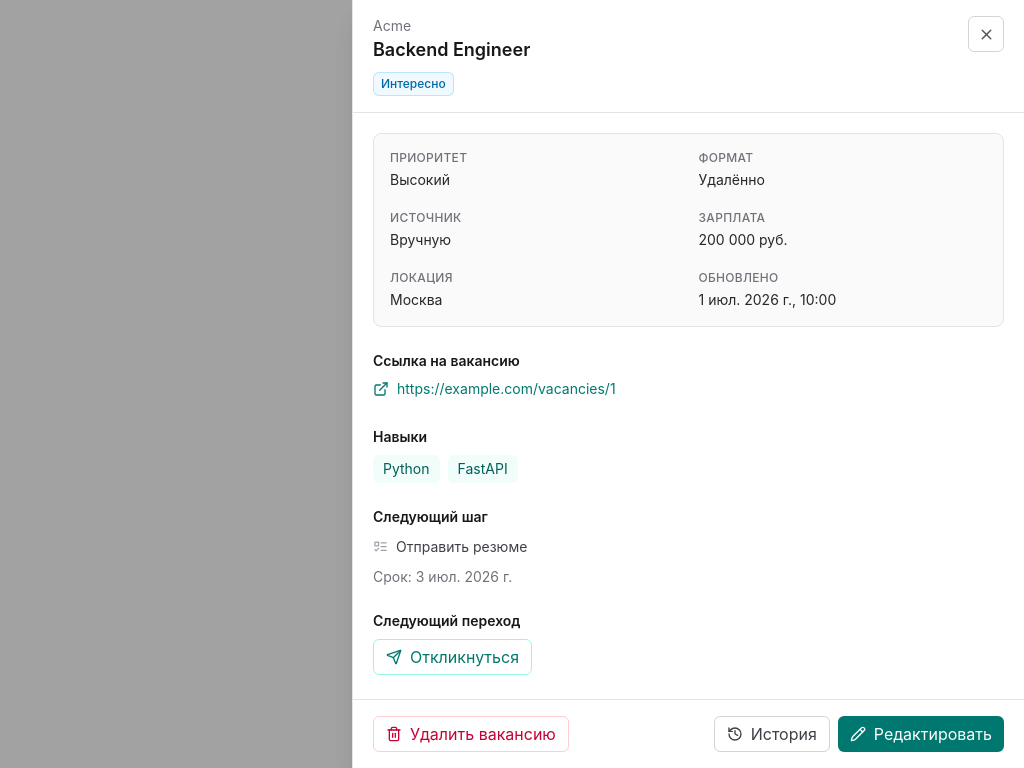
Scenario: VacancyDetailPanel › показывает ошибку, если удалить вакансию не удалось
Click the button "Удалить вакансию": [471, 734] box 373,716 -> 569,752
(page scrolled)
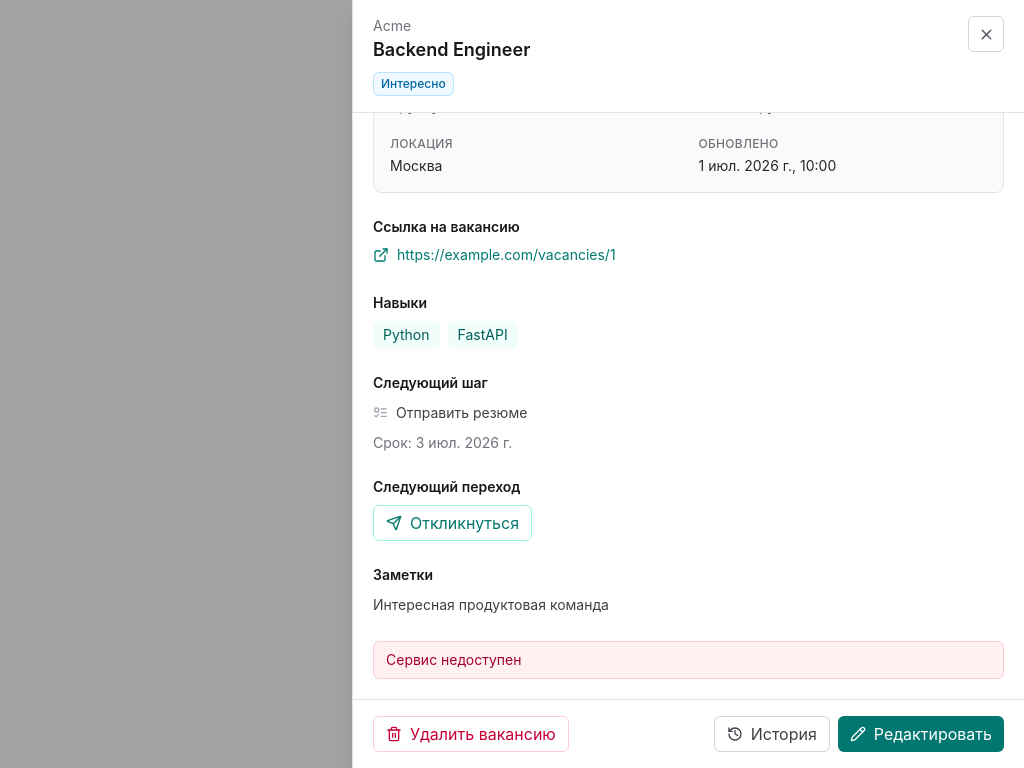
Now the message reads "Сервис недоступен", box 386,651 -> 522,668
